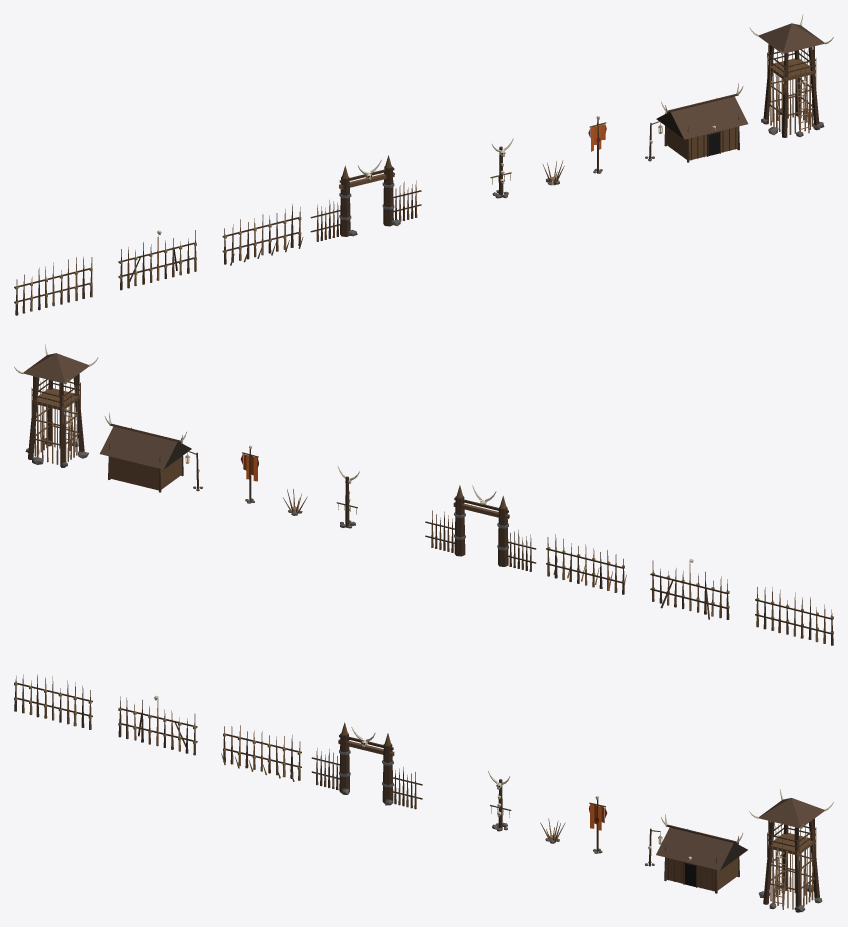
File: goblin-fort-kit.glb
3 views of the same model, one above another, from view 1: azimuth 30°, elevation 25°; view 2: azimuth 150°, elevation 25°; view 3: azimuth 330°, elevation 25° (orthographic).
Parts seen in each view (by area): view 1: goblin_tower, goblin_hut, goblin_gate, goblin_palisade_c, goblin_palisade_b, goblin_palisade_a; view 2: goblin_tower, goblin_hut, goblin_gate, goblin_palisade_b, goblin_palisade_c, goblin_palisade_a; view 3: goblin_tower, goblin_hut, goblin_gate, goblin_palisade_b, goblin_palisade_c, goblin_palisade_a, goblin_banner.
Boxes of the visible parts, bbox=[...] form: goblin_tower: bbox=[749, 14, 833, 137]; goblin_hut: bbox=[656, 83, 748, 162]; goblin_gate: bbox=[310, 155, 421, 241]; goblin_palisade_c: bbox=[222, 204, 303, 265]; goblin_palisade_b: bbox=[118, 230, 196, 290]; goblin_palisade_a: bbox=[14, 257, 92, 315]; goblin_tower: bbox=[14, 344, 98, 467]; goblin_hut: bbox=[99, 412, 191, 492]; goblin_gate: bbox=[425, 485, 536, 571]; goblin_palisade_b: bbox=[650, 559, 729, 619]; goblin_palisade_c: bbox=[546, 534, 626, 594]; goblin_palisade_a: bbox=[755, 587, 833, 645]; goblin_tower: bbox=[749, 789, 833, 912]; goblin_hut: bbox=[656, 814, 747, 893]; goblin_gate: bbox=[311, 722, 422, 809]; goblin_palisade_b: bbox=[118, 695, 197, 755]; goblin_palisade_c: bbox=[221, 725, 301, 781]; goblin_palisade_a: bbox=[14, 674, 92, 729]; goblin_banner: bbox=[589, 796, 607, 853].
Size of the model in its own units: 53.91 by 6.62 by 3.65.
Materials: 1 (1 with a texture image).
